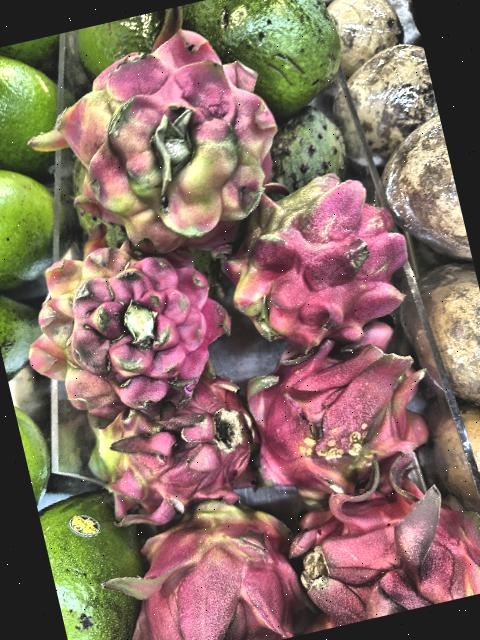buah-naga-belum-matang: (13, 0, 303, 275), (8, 205, 250, 443), (228, 162, 426, 384), (51, 360, 278, 532), (240, 326, 437, 518), (93, 470, 311, 640)
buah-naga-matang: (271, 437, 480, 633)
